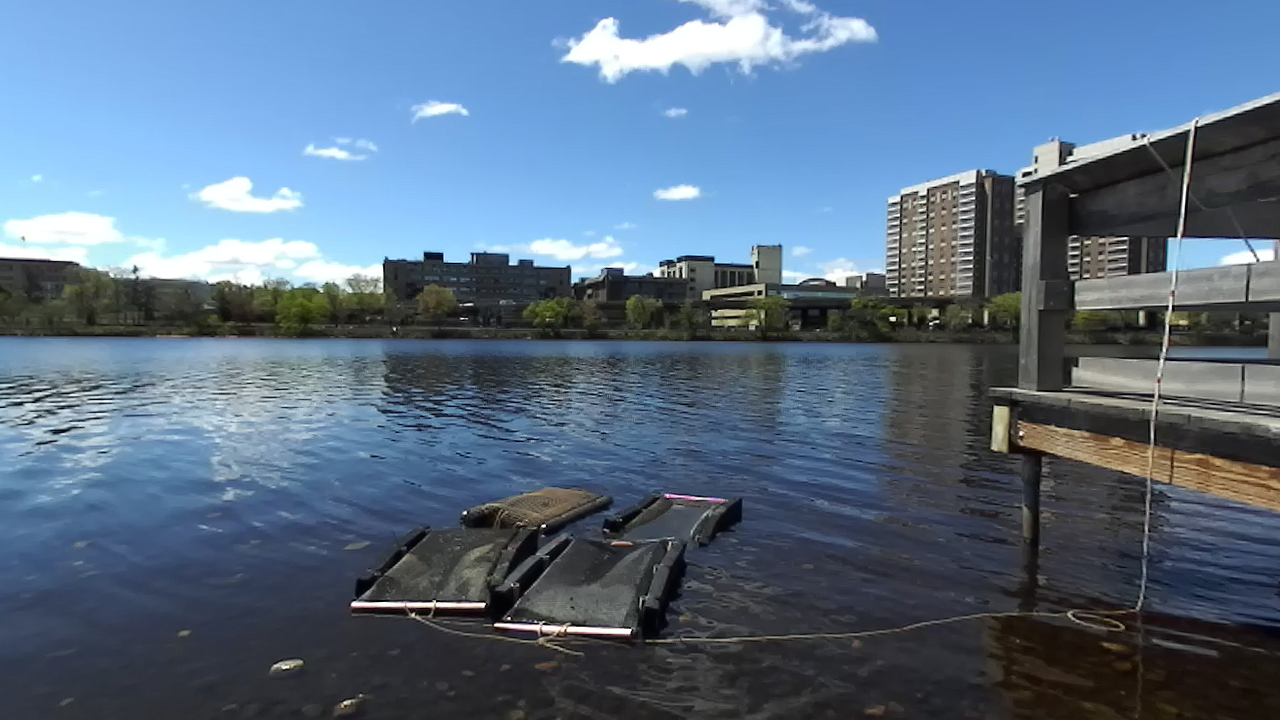bag: (495, 537, 685, 638), (350, 525, 534, 613), (602, 491, 741, 544), (462, 487, 614, 534)
